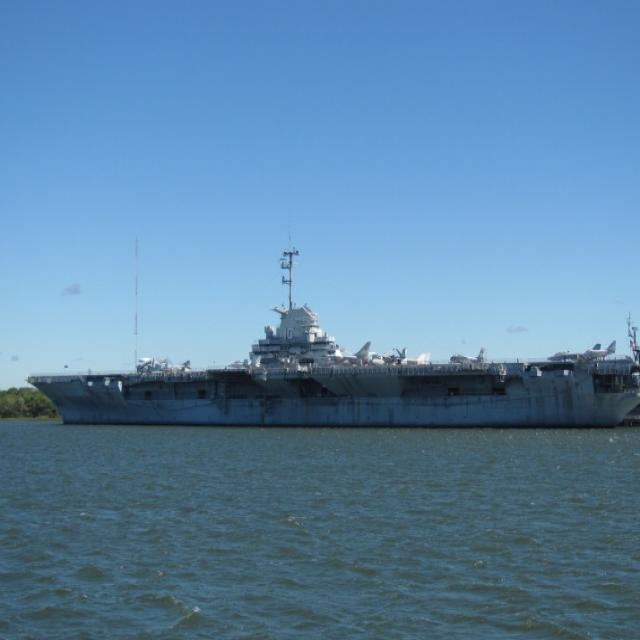Portanaves: (24, 221, 640, 433)
